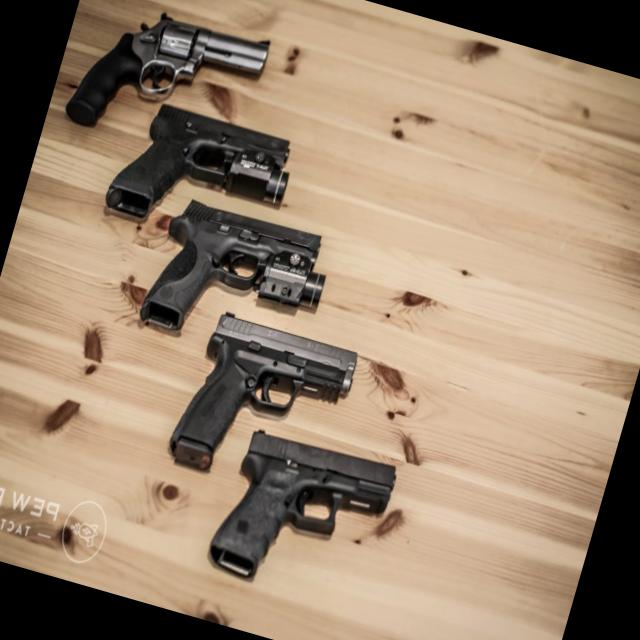Weapon: (158, 303, 362, 507), (197, 416, 406, 614), (130, 190, 342, 377), (58, 0, 277, 170), (99, 90, 305, 258)
